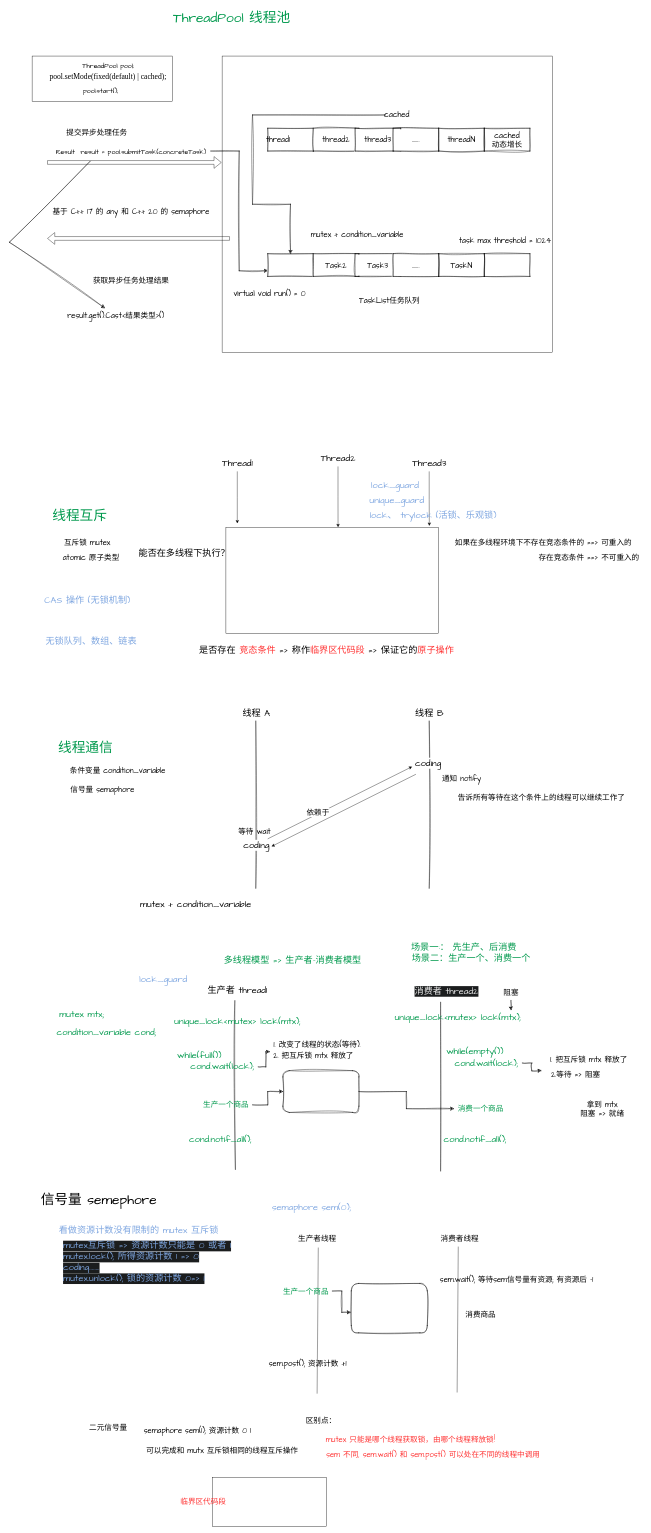
Some shapes in this 651 by 1533 pixel diagram are drawn without their labels. The shapes that lost their labels are listed below. From the top down, each one's centre as x and y in pixels, then its label:
At (290,264): "Task1".
At (332,580): "code....".
At (321,1091): "容器vector".
At (389,1308): "容器".
At (269,1502): "coding`".
